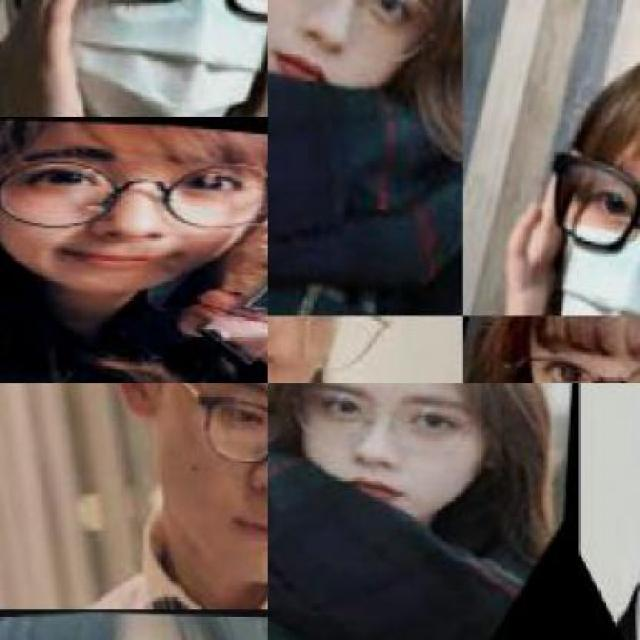glasses: (0, 144, 266, 244), (274, 383, 484, 462), (529, 140, 640, 252), (268, 0, 456, 66), (132, 383, 266, 466), (268, 316, 404, 382)
